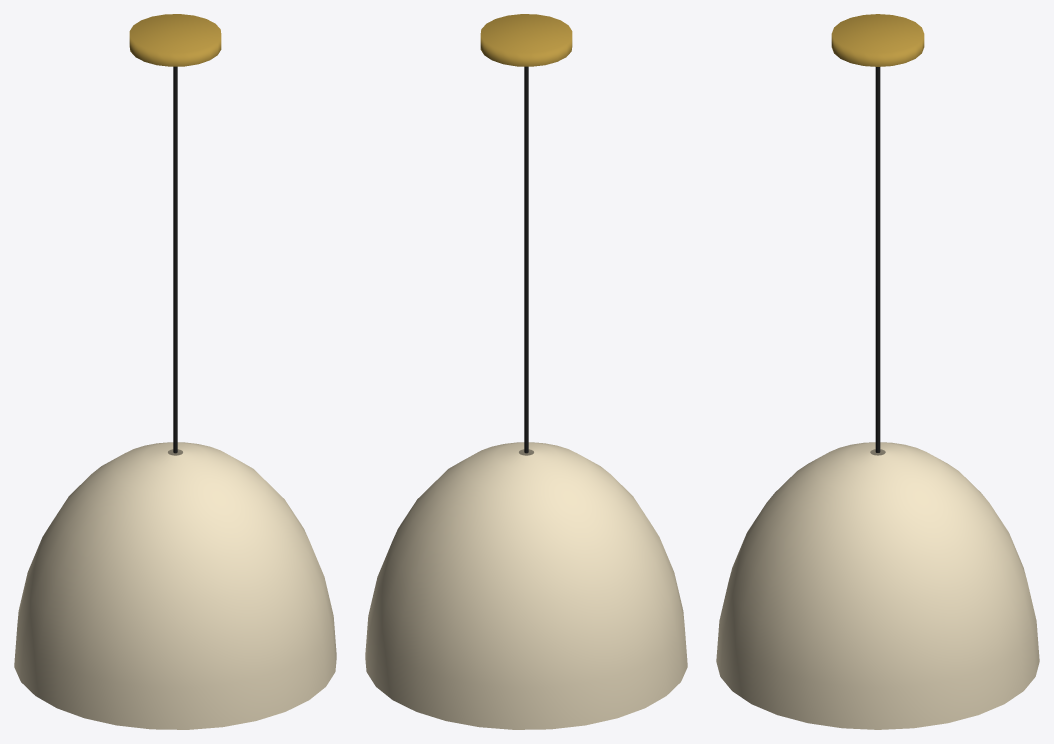
Rendered from ATL-PND-std.glb.
3 renders of one model, left to right at view 1: azimuth 30°, elevation 25°; view 2: azimuth 150°, elevation 25°; view 3: azimuth 270°, elevation 25°, orthographic.
Visible parts, largest first — view 1: ATL-PND-std; view 2: ATL-PND-std; view 3: ATL-PND-std.
Boxes of the visible parts, x1,y1,x2,y2 form: ATL-PND-std: [14, 14, 336, 729]; ATL-PND-std: [365, 14, 687, 729]; ATL-PND-std: [716, 14, 1039, 729].
Size of the model in its own units: 0.42 by 0.9 by 0.42.
